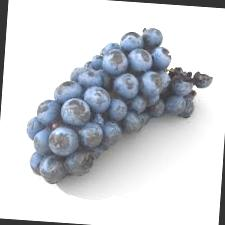Grape Rotten: (21, 18, 215, 194)
